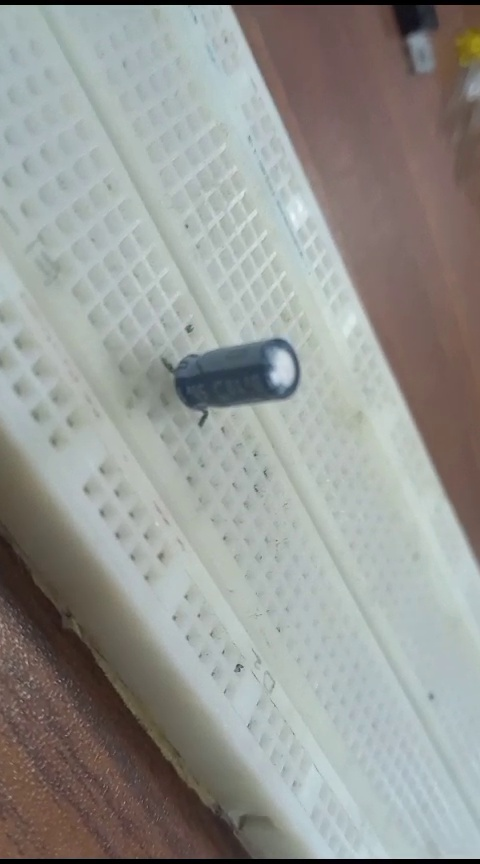capacitor: (146, 328, 318, 427)
